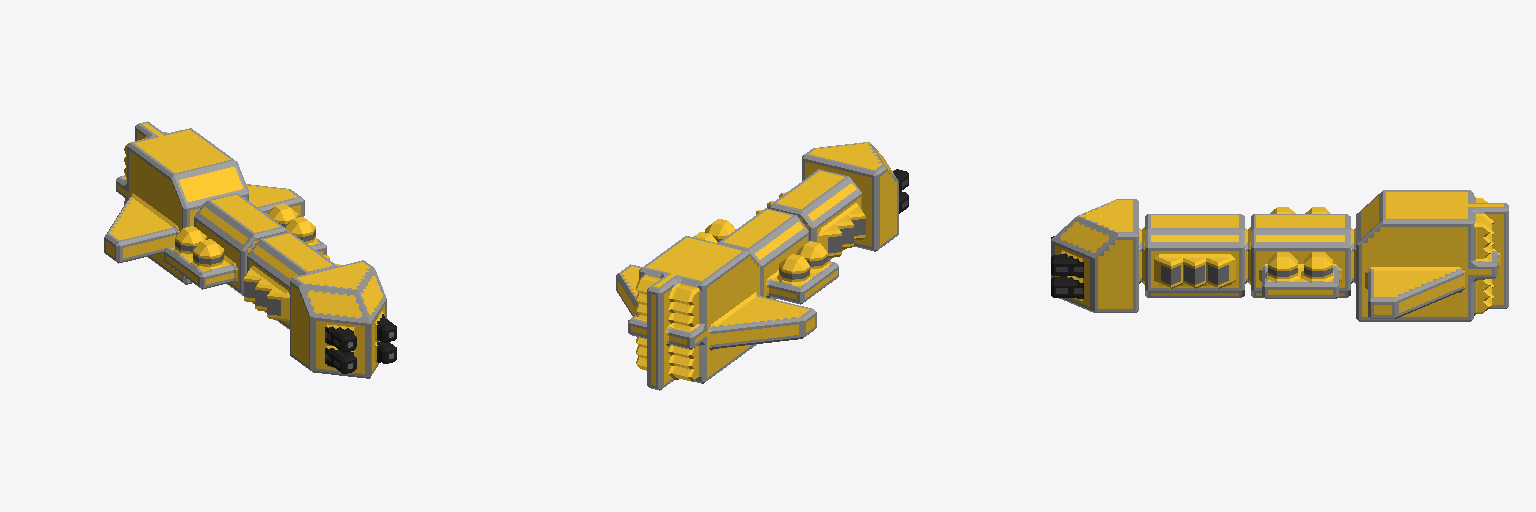
3 views of the same model, side by side, from view 1: azimuth 30°, elevation 25°; view 2: azimuth 150°, elevation 25°; view 3: azimuth 270°, elevation 25° (orthographic).
Bounding box in the file's own units: 37 × 19 × 78.
1 materials, 1 textured.